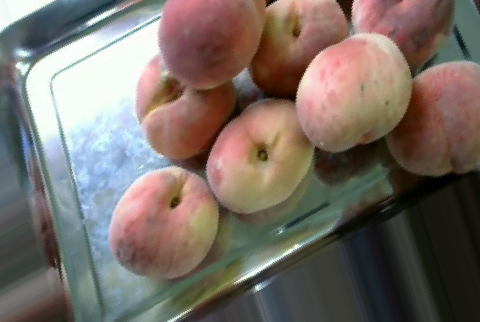Peach: (291, 33, 409, 152), (202, 97, 312, 214), (109, 166, 220, 277), (136, 50, 238, 160), (389, 60, 480, 177), (248, 0, 345, 98), (157, 0, 267, 83), (345, 0, 455, 68)
